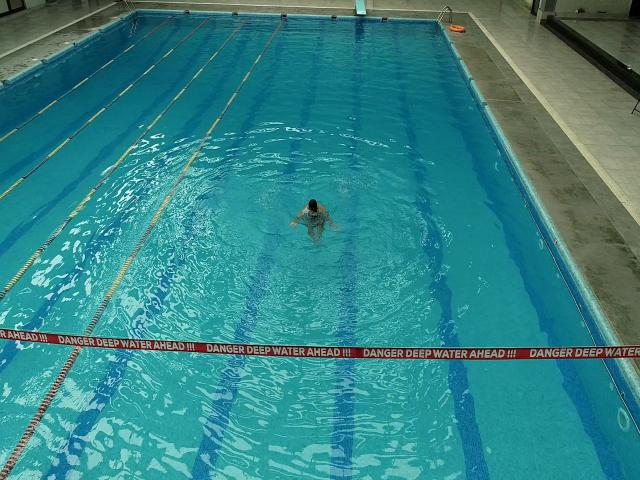drowning: (290, 199, 333, 240)
